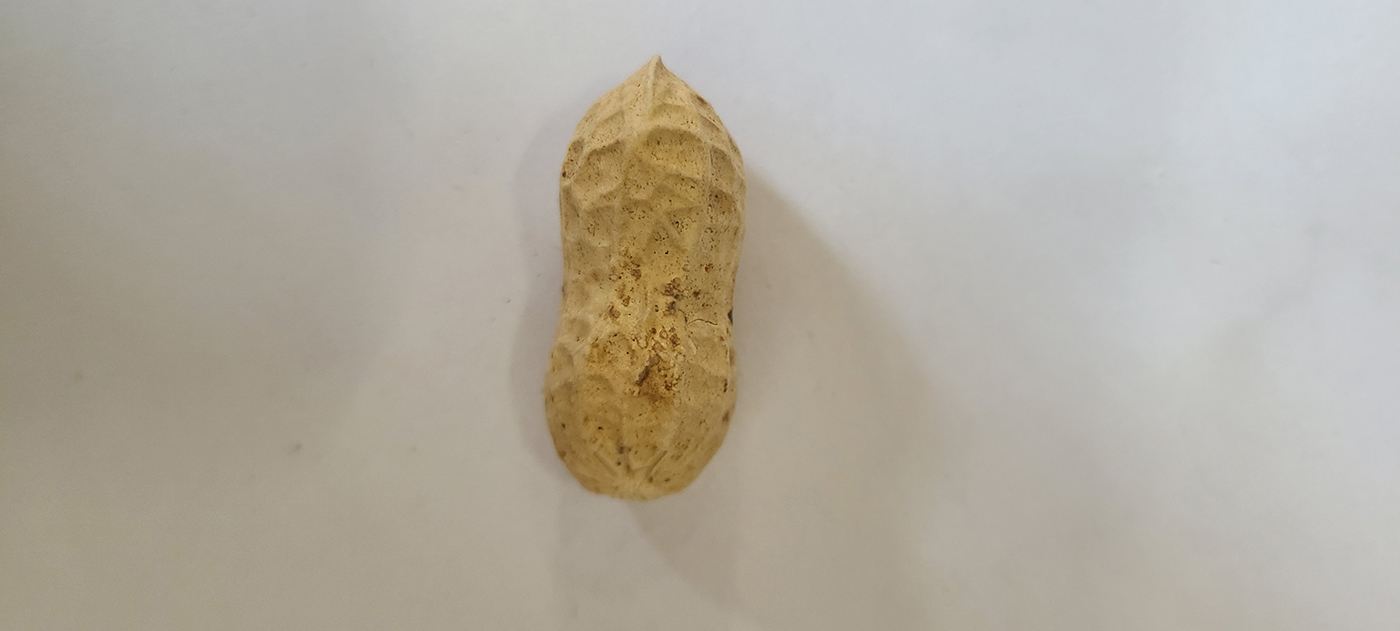h: (544, 54, 747, 503)
